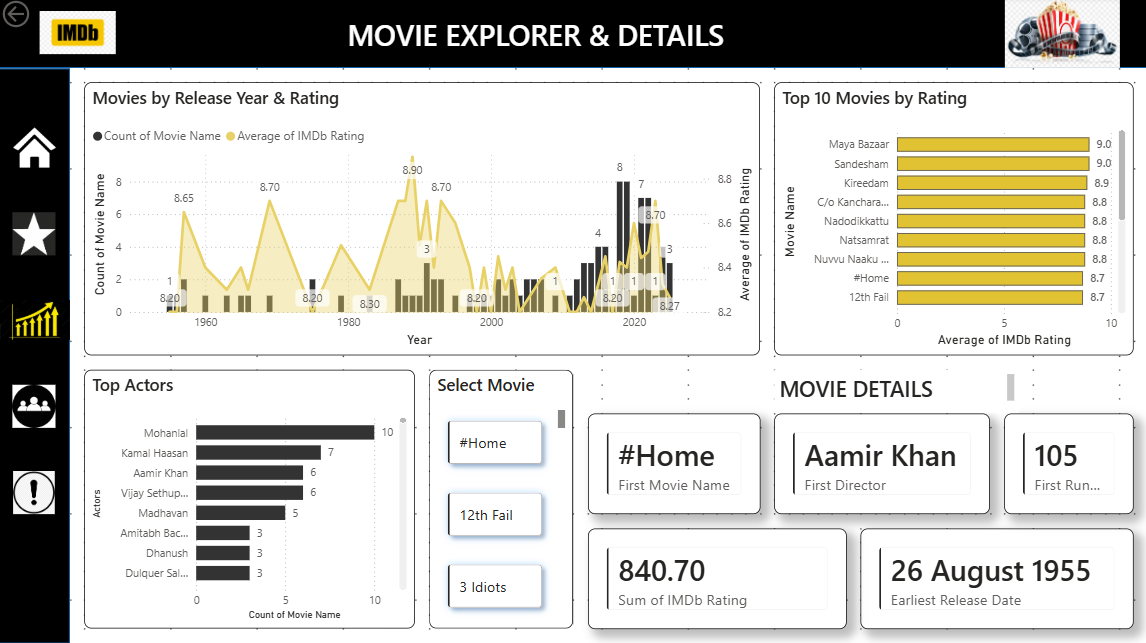

The page's visual inventory and layout, read from the dashboard file:
{"tool":"powerbi","page":{"name":"Movie Explorer & Details.","canvas":[1280,720],"ordinal":2},"visuals":[{"type":"shape","box":[0,0,1280,80],"z":0},{"type":"shape","box":[0,80,80,640],"z":1},{"type":"image","box":[16,16,144,48],"z":2},{"type":"image","box":[1104,0,160,80],"z":3},{"type":"image","box":[16,144,48,48],"z":4},{"type":"image","box":[0,240,80,48],"z":5},{"type":"image","box":[0,336,80,48],"z":6},{"type":"image","box":[0,432,80,48],"z":7},{"type":"image","box":[0,528,80,48],"z":8},{"type":"textbox","box":[384,16,464,64],"z":10},{"type":"lineStackedColumnComboChart","title":"Movies by Release Year & Rating","fields":{"Category":["Movies.Year"],"Y":["CountNonNull(Movies.Movie Name)"],"Y2":["Avg(Movies.IMDb Rating)"]},"box":[96,96,752,304],"z":11},{"type":"clusteredBarChart","title":"Top 10 Movies by Rating","fields":{"Category":["Movies.Movie Name"],"Y":["Avg(Movies.IMDb Rating)"]},"box":[864,96,400,304],"z":12},{"type":"clusteredBarChart","title":"Top Actors","fields":{"Category":["Actorlist.Actors"],"Y":["CountNonNull(Actorlist.Movie Name)"]},"box":[96,416,368,288],"z":13},{"type":"actionButton","box":[0,0,100,40],"z":16},{"type":"advancedSlicerVisual","title":"Select Movie","fields":{"Values":["MovieList.Movie Name"]},"box":[480,416,160,288],"z":18},{"type":"cardVisual","fields":{"Data":["Min(Movies.Movie Name)"]},"box":[656,464,192,112],"z":19},{"type":"cardVisual","fields":{"Data":["Min(Movies.Director)"]},"box":[864,464,240,112],"z":20},{"type":"cardVisual","fields":{"Data":["Min(Movies.Release Date)"]},"box":[960,592,304,112],"z":21},{"type":"cardVisual","fields":{"Data":["Sum(Movies.IMDb Rating)"]},"box":[656,592,288,112],"z":22},{"type":"cardVisual","fields":{"Data":["Min(Movies.Runtime Minutes)"]},"box":[1120,464,144,112],"z":23},{"type":"textbox","box":[864,416,272,48],"z":24}]}

Visuals, with their boxes on the page's 1280x720 design canvas (x1, y1, x2, y2). These are canvas units, not pixel positions in the 1146x643 screenshot, which may show the page scaled, cropped or inside an application window:
shape: 0:0:1280:80
shape: 0:80:80:720
image: 16:16:160:64
image: 1104:0:1264:80
image: 16:144:64:192
image: 0:240:80:288
image: 0:336:80:384
image: 0:432:80:480
image: 0:528:80:576
textbox: 384:16:848:80
"Movies by Release Year & Rating" lineStackedColumnComboChart: 96:96:848:400
"Top 10 Movies by Rating" clusteredBarChart: 864:96:1264:400
"Top Actors" clusteredBarChart: 96:416:464:704
actionButton: 0:0:100:40
"Select Movie" advancedSlicerVisual: 480:416:640:704
cardVisual - Min(Movies.Movie Name): 656:464:848:576
cardVisual - Min(Movies.Director): 864:464:1104:576
cardVisual - Min(Movies.Release Date): 960:592:1264:704
cardVisual - Sum(Movies.IMDb Rating): 656:592:944:704
cardVisual - Min(Movies.Runtime Minutes): 1120:464:1264:576
textbox: 864:416:1136:464
